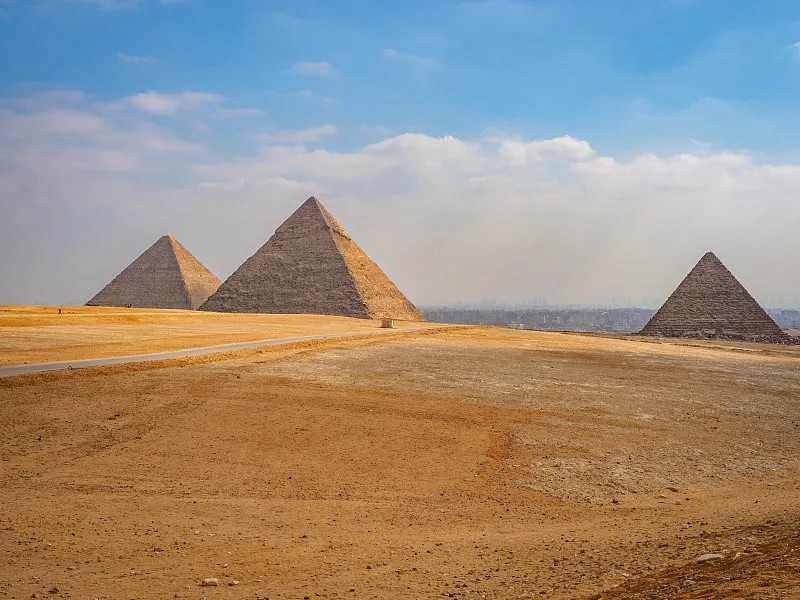Pyramid: (199, 197, 425, 323), (638, 251, 794, 345), (85, 235, 222, 311)
